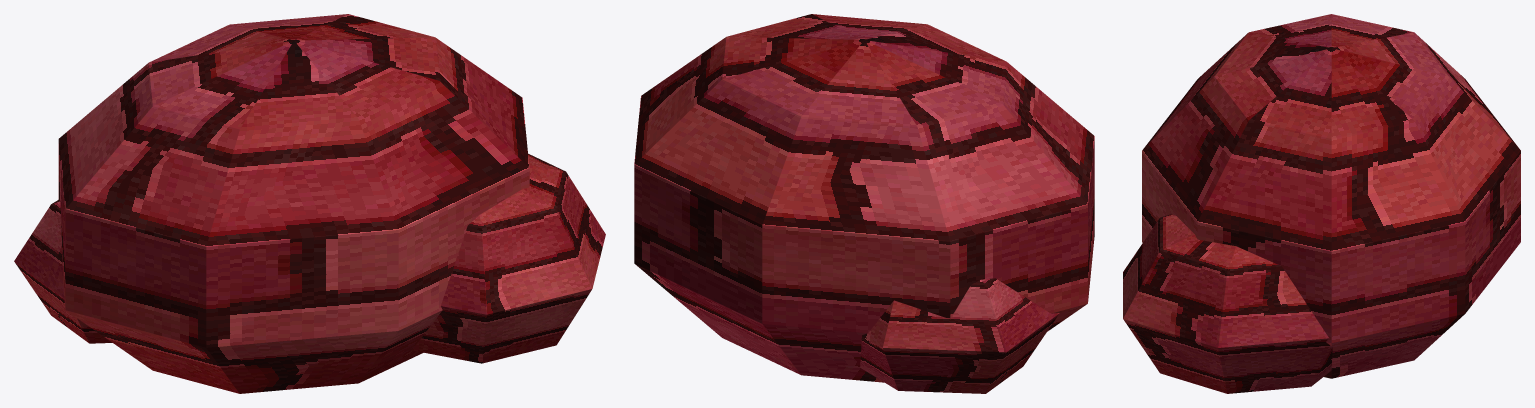
File: entulho_de_sangue.glb
3 views of the same model, side by side, from view 1: azimuth 30°, elevation 25°; view 2: azimuth 150°, elevation 25°; view 3: azimuth 270°, elevation 25° (orthographic). The views are drawn at different scales.
Visible parts, largest first — view 1: entulho_de_sangue; view 2: entulho_de_sangue; view 3: entulho_de_sangue.
Boxes of the visible parts, x1=… form: entulho_de_sangue: x1=14, y1=14, x2=605, y2=393; entulho_de_sangue: x1=634, y1=14, x2=1094, y2=393; entulho_de_sangue: x1=1123, y1=14, x2=1520, y2=393.
Size of the model in its own units: 1.21 by 0.7894 by 0.9604.
1 material, 1 textured.
